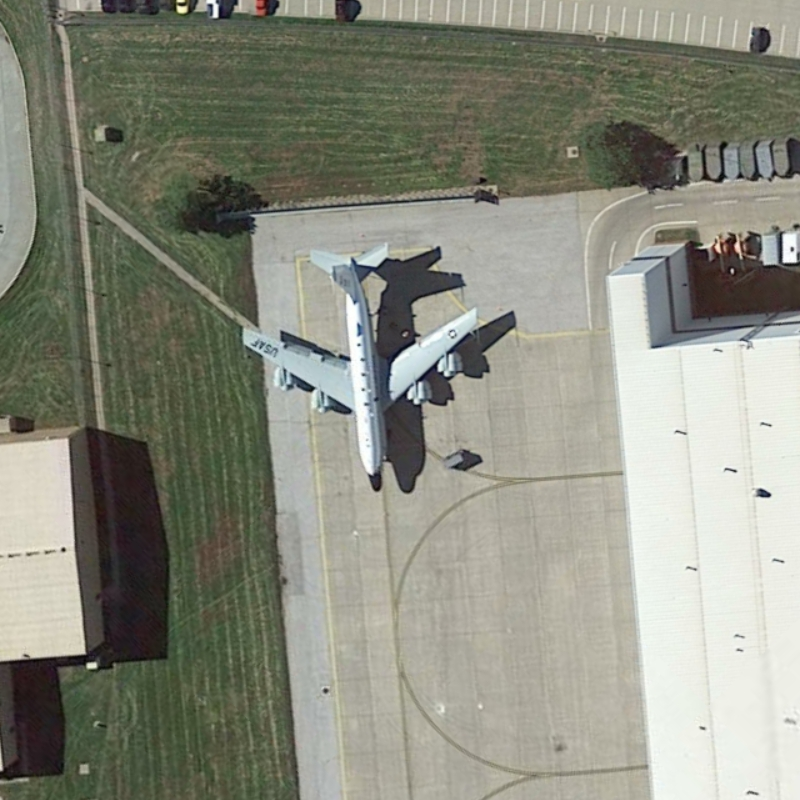A11: (235, 234, 494, 500)
